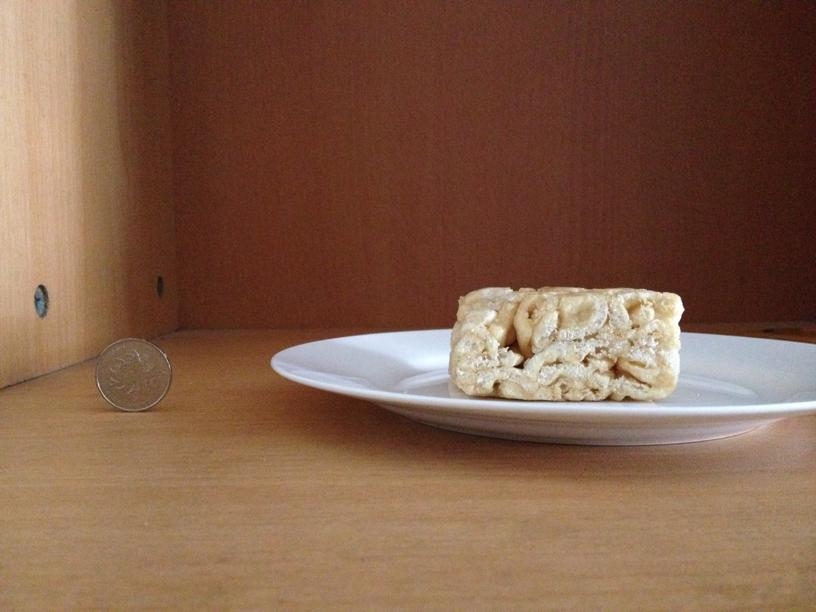coin: (95, 338, 172, 414)
sachima: (442, 284, 684, 403)
